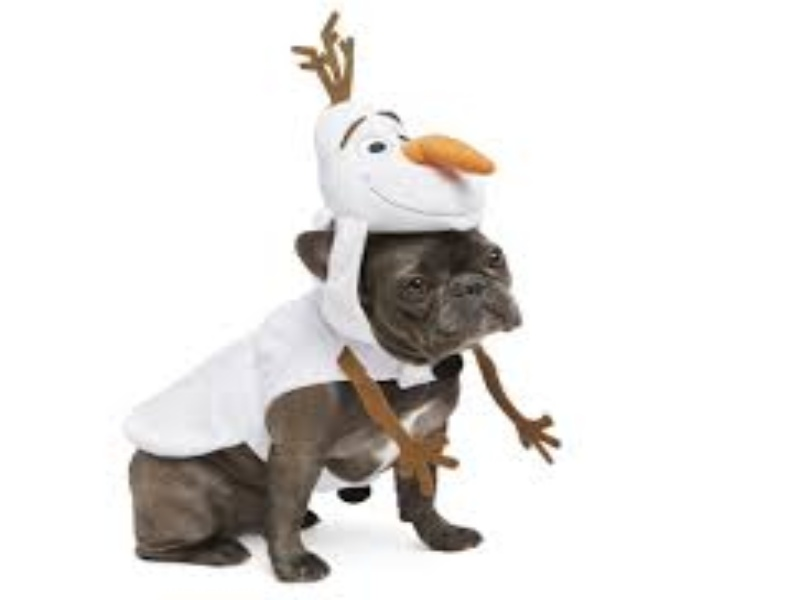dog: (78, 232, 525, 581)
